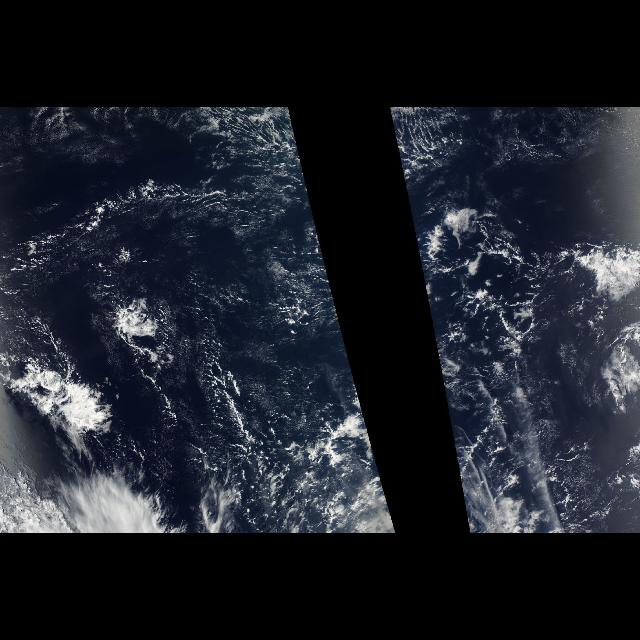Fish: (0, 178, 292, 288)
Gravel: (416, 185, 564, 437)
Sugar: (137, 214, 357, 442)
